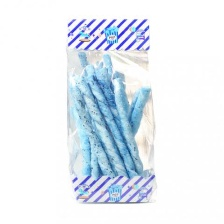snack: (57, 8, 164, 209)
